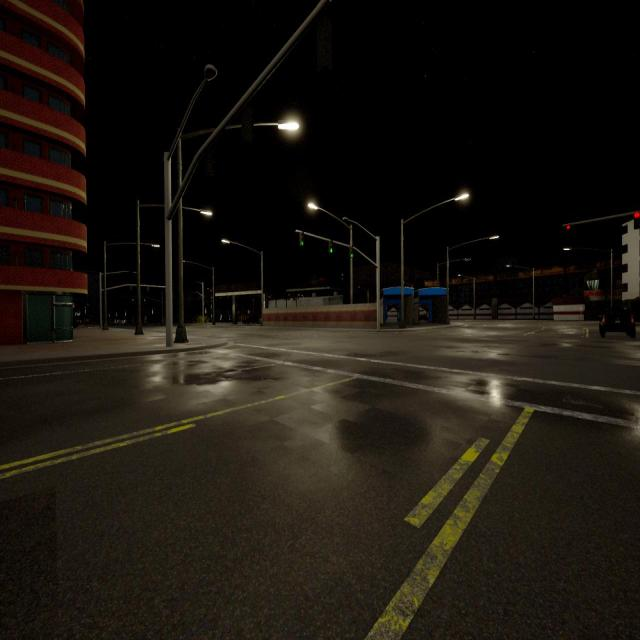Traffic_Signs: (580, 306, 582, 310)
Vehicle: (599, 306, 634, 336), (242, 314, 258, 324)
traffic_light: (317, 15, 331, 61), (242, 104, 253, 136), (633, 211, 640, 228), (300, 232, 304, 245), (329, 241, 333, 253), (350, 246, 353, 258), (566, 225, 571, 230), (147, 287, 149, 291), (132, 299, 134, 301), (131, 286, 132, 290), (144, 299, 146, 301)
